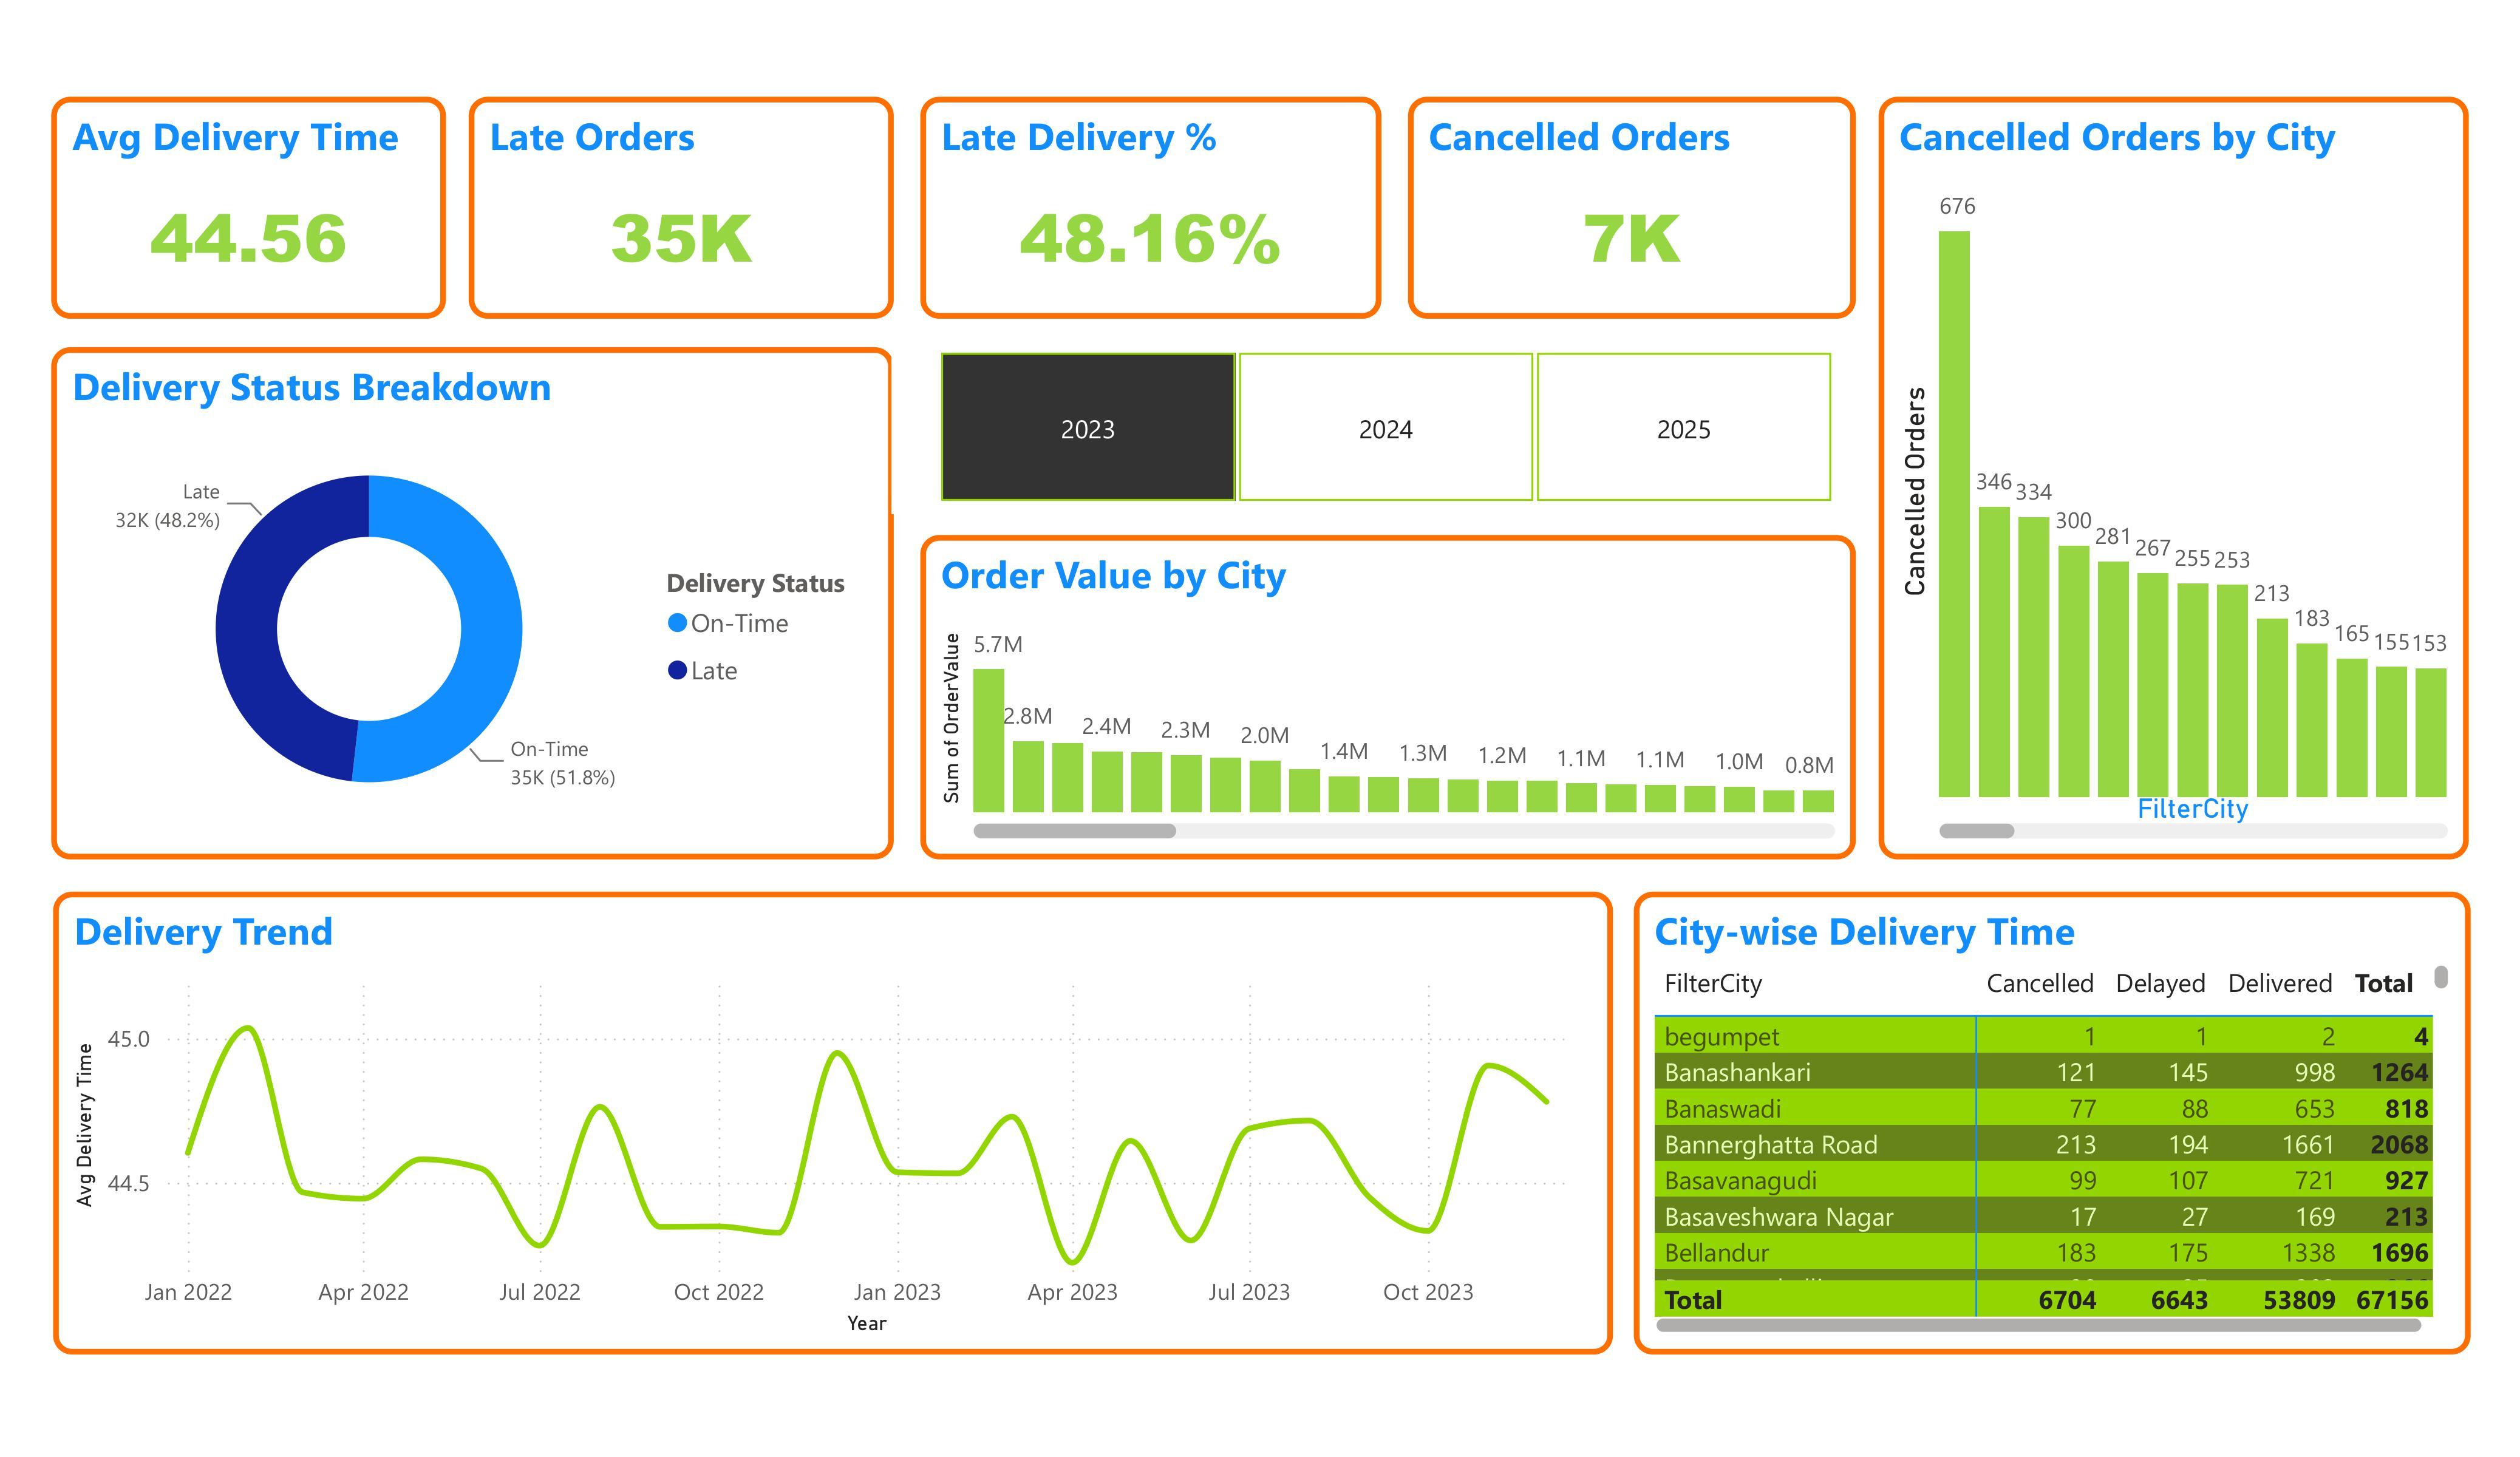

This screenshot's page, from the dashboard's own definition file:
{"tool":"powerbi","page":{"name":"Delivery and Operations","canvas":[1280,720],"ordinal":3},"visuals":[{"type":"cardVisual","title":"Late Orders","fields":{"Data":["Orders.Late Orders"]},"box":[222.5,27.3,224.3,117.1],"z":0},{"type":"cardVisual","title":"Avg Delivery Time","fields":{"Data":["Orders.Avg Delivery Time"]},"box":[2.5,27.3,208.6,117.1],"z":1000},{"type":"cardVisual","title":"Late Delivery %","fields":{"Data":["Orders.Late Delivery %"]},"box":[461.1,27.3,242.9,117.1],"z":2000},{"type":"cardVisual","title":"Cancelled Orders","fields":{"Data":["Orders.Cancelled Orders"]},"box":[718.2,27.3,235.7,117.1],"z":3000},{"type":"lineChart","title":"Delivery Trend","fields":{"Y":["Orders.Avg Delivery Time"],"Category":["Customers.SignupDate.Variation.Date Hierarchy.Year","Customers.SignupDate.Variation.Date Hierarchy.Month"]},"box":[3.7,445.6,822.5,244.1],"z":4000},{"type":"donutChart","title":"Delivery Status Breakdown","fields":{"Category":["Orders.Delivery Status"],"Y":["Orders.Total Orders"]},"box":[2.5,158.7,444.3,270],"z":5000},{"type":"columnChart","title":"Cancelled Orders by City","fields":{"Category":["Customers.FilterCity"],"Y":["Orders.Cancelled Orders"]},"box":[965.5,26.9,311.7,401.8],"z":6000},{"type":"pivotTable","title":"City-wise Delivery Time","fields":{"Rows":["Customers.FilterCity"],"Values":["Orders.Total Orders"],"Columns":["Orders.OrderStatus"]},"box":[836.9,445.6,440.9,244.1],"z":7000},{"type":"slicer","fields":{"Values":["DateTable.Year"]},"box":[446.2,155.4,518.8,91.2],"z":8000},{"type":"columnChart","title":"Order Value by City","fields":{"Category":["Customers.FilterCity"],"Y":["Sum(Orders.OrderValue)"]},"box":[460.6,258,493,170.7],"z":9000}]}

Visuals, with their boxes on the page's 1280x720 design canvas (x1, y1, x2, y2). These are canvas units, not pixel positions in the 2520x1457 screenshot, which may show the page scaled, cropped or inside an application window:
"Late Orders" cardVisual: <bbox>222, 27, 447, 144</bbox>
"Avg Delivery Time" cardVisual: <bbox>2, 27, 211, 144</bbox>
"Late Delivery %" cardVisual: <bbox>461, 27, 704, 144</bbox>
"Cancelled Orders" cardVisual: <bbox>718, 27, 954, 144</bbox>
"Delivery Trend" lineChart: <bbox>4, 446, 826, 690</bbox>
"Delivery Status Breakdown" donutChart: <bbox>2, 159, 447, 429</bbox>
"Cancelled Orders by City" columnChart: <bbox>966, 27, 1277, 429</bbox>
"City-wise Delivery Time" pivotTable: <bbox>837, 446, 1278, 690</bbox>
slicer - DateTable.Year: <bbox>446, 155, 965, 247</bbox>
"Order Value by City" columnChart: <bbox>461, 258, 954, 429</bbox>
